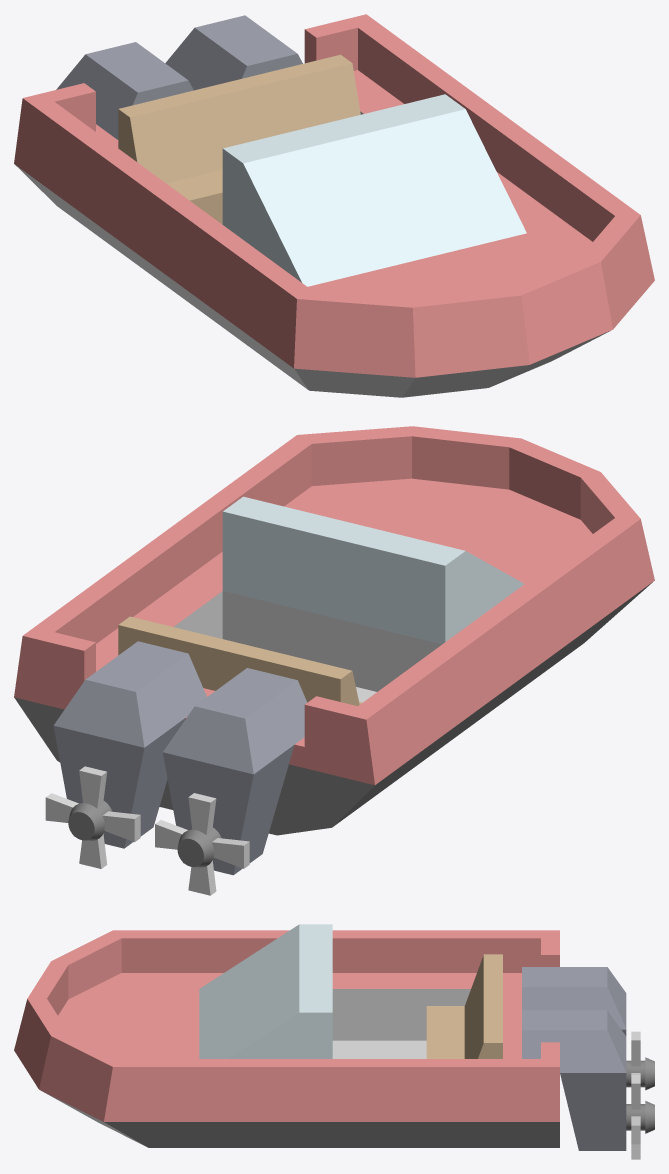
Rendered from RubberDinghy.fbx.
The picture shows the model from 3 angles, top to bottom: view 1: azimuth 30°, elevation 25°; view 2: azimuth 150°, elevation 25°; view 3: azimuth 270°, elevation 25°; orthographic projection. The views are drawn at different scales.
Visible parts, largest first — view 1: watercraftPack_012; view 2: watercraftPack_012; view 3: watercraftPack_012.
Part boxes in pixels (x1=…): watercraftPack_012: x1=14, y1=14, x2=654, y2=397; watercraftPack_012: x1=14, y1=426, x2=654, y2=895; watercraftPack_012: x1=14, y1=924, x2=654, y2=1159.
Bounding box in the file's own units: 178 × 337 × 95.71.
